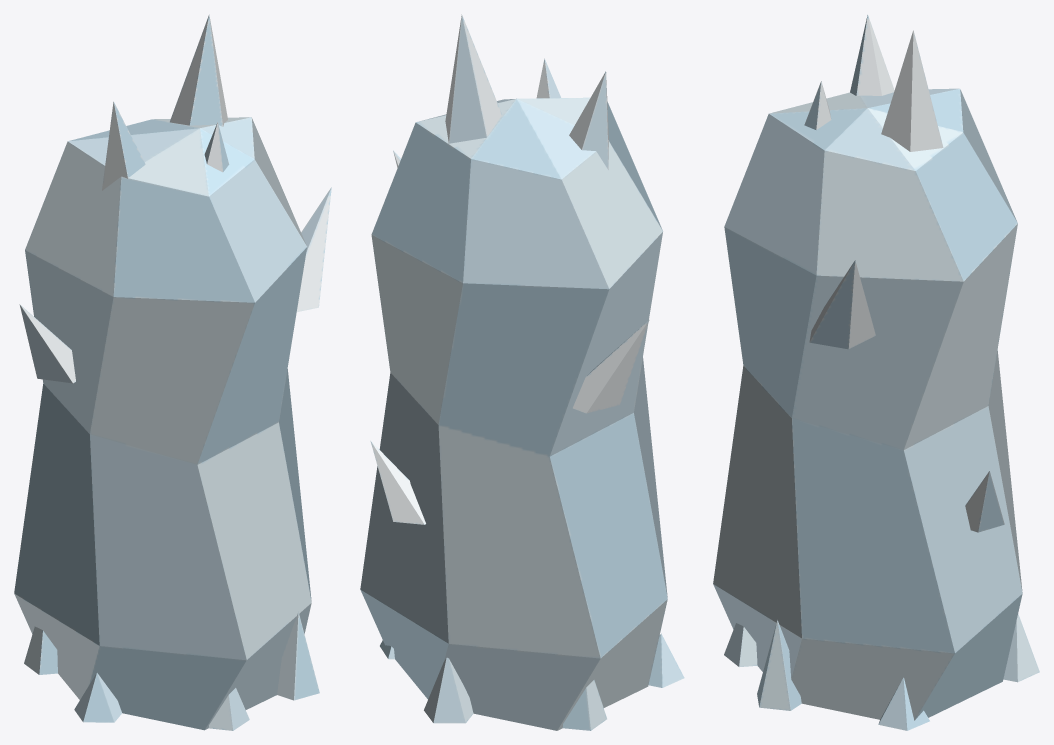
Rendered from IceShell.fbx.
3 views of the same model, side by side, from view 1: azimuth 30°, elevation 25°; view 2: azimuth 150°, elevation 25°; view 3: azimuth 270°, elevation 25° (orthographic). The views are drawn at different scales.
Visible parts, largest first — view 1: IceShell; view 2: IceShell; view 3: IceShell.
Boxes of the visible parts, x1=… form: IceShell: x1=14, y1=14, x2=331, y2=730; IceShell: x1=360, y1=14, x2=684, y2=730; IceShell: x1=713, y1=14, x2=1039, y2=730.
Bounding box in the file's own units: 243 × 525 × 236.
Materials: 1 (1 with a texture image).
